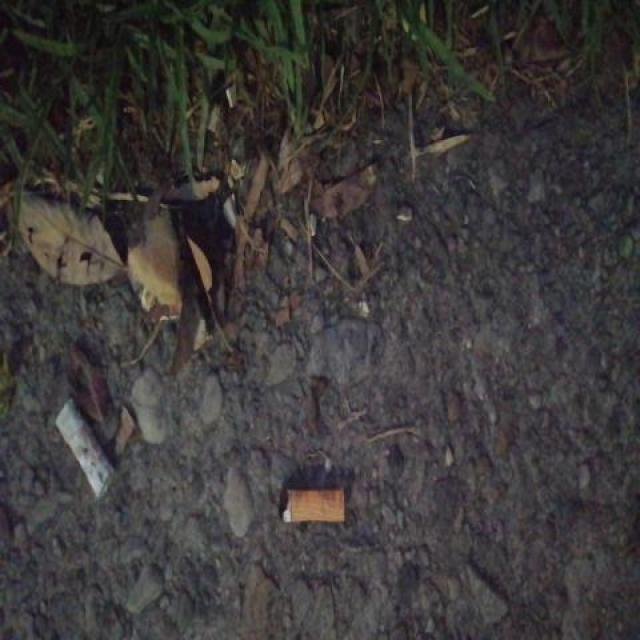non-organic waste: (48, 390, 120, 502), (275, 484, 349, 527)
